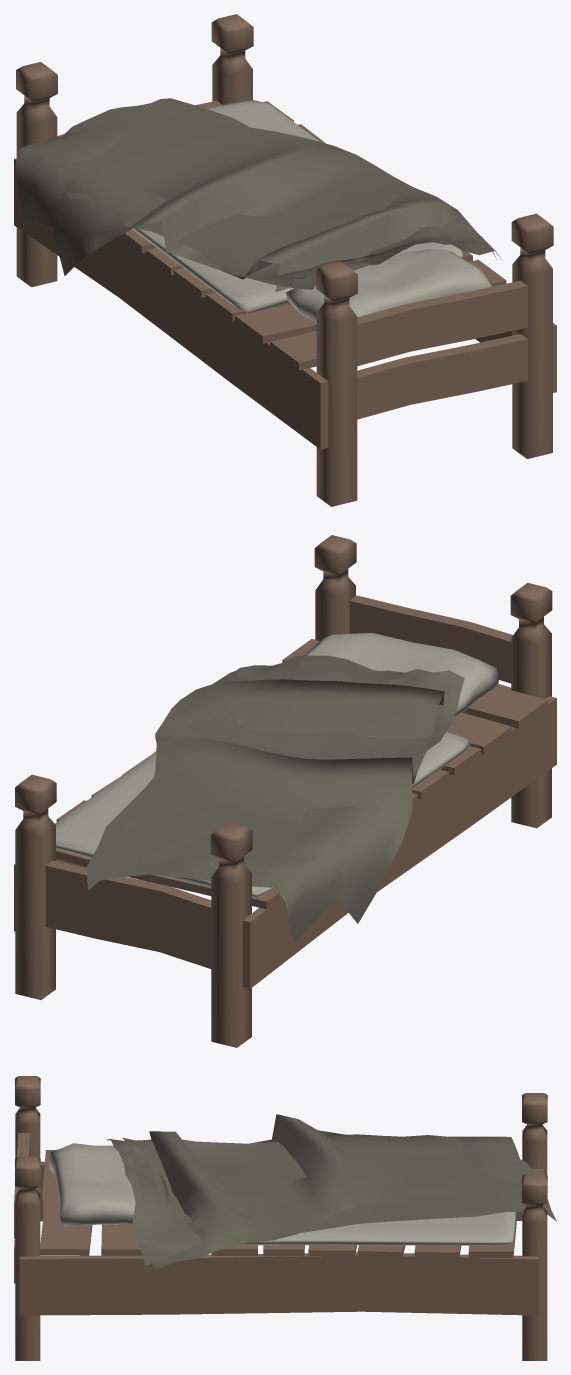
The model's file is Bed.fbx.
3 renders of one model, top to bottom at view 1: azimuth 30°, elevation 25°; view 2: azimuth 150°, elevation 25°; view 3: azimuth 270°, elevation 25°, orthographic. The views are drawn at different scales.
Parts seen in each view (by area): view 1: Bed, blanket_02, blanket_01, pillow, pillow1; view 2: Bed, blanket_02, blanket_01, pillow1, pillow; view 3: Bed, blanket_02, blanket_01, pillow, pillow1.
Boxes of the visible parts, x1,y1,x2,y2 form: Bed: (14, 14, 556, 506); blanket_02: (53, 110, 497, 291); blanket_01: (15, 98, 502, 289); pillow: (286, 249, 491, 323); pillow1: (132, 99, 462, 313); Bed: (14, 535, 556, 1047); blanket_02: (140, 661, 453, 923); blanket_01: (86, 655, 464, 943); pillow1: (55, 731, 471, 896); pillow: (303, 633, 498, 716); Bed: (14, 1076, 547, 1360); blanket_02: (122, 1114, 521, 1269); blanket_01: (106, 1136, 556, 1265); pillow: (48, 1143, 135, 1226); pillow1: (238, 1212, 515, 1245).
Bounding box in the file's own units: 138 × 103 × 261.
